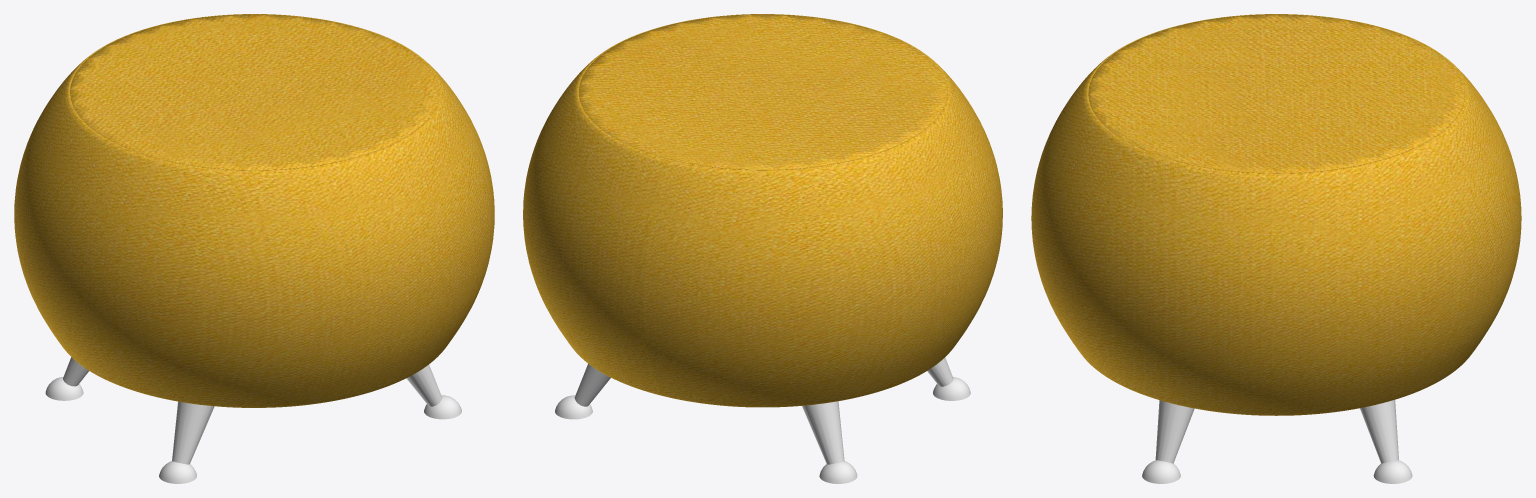
Rendered from luna.dae.
3 renders of one model, left to right at view 1: azimuth 30°, elevation 25°; view 2: azimuth 150°, elevation 25°; view 3: azimuth 270°, elevation 25°, orthographic. The views are drawn at different scales.
Visible parts, largest first — view 1: Box007, Cylinder026, Cylinder027, Sphere017, Sphere014, Sphere016; view 2: Box007, Cylinder025, Cylinder028, Sphere014, Sphere015, Sphere017; view 3: Box007, Cylinder028, Cylinder027, Sphere016, Sphere015.
Boxes of the visible parts, x1,y1,x2,y2 form: Box007: (14,14,494,407); Cylinder026: (172,401,214,464); Cylinder027: (406,365,442,406); Sphere017: (159,461,196,483); Sphere014: (45,377,83,400); Sphere016: (424,395,461,419); Box007: (523,14,1002,407); Cylinder025: (802,401,844,464); Cylinder028: (574,364,610,406); Sphere014: (819,461,857,483); Sphere015: (555,395,592,419); Sphere017: (933,377,970,400); Box007: (1031,14,1521,415); Cylinder028: (1360,400,1398,463); Cylinder027: (1155,400,1194,463); Sphere016: (1142,460,1180,483); Sphere015: (1373,460,1412,483).
Bounding box in the file's own units: 0.494 × 0.3523 × 0.494.
Materials: 2 (1 with a texture image).
